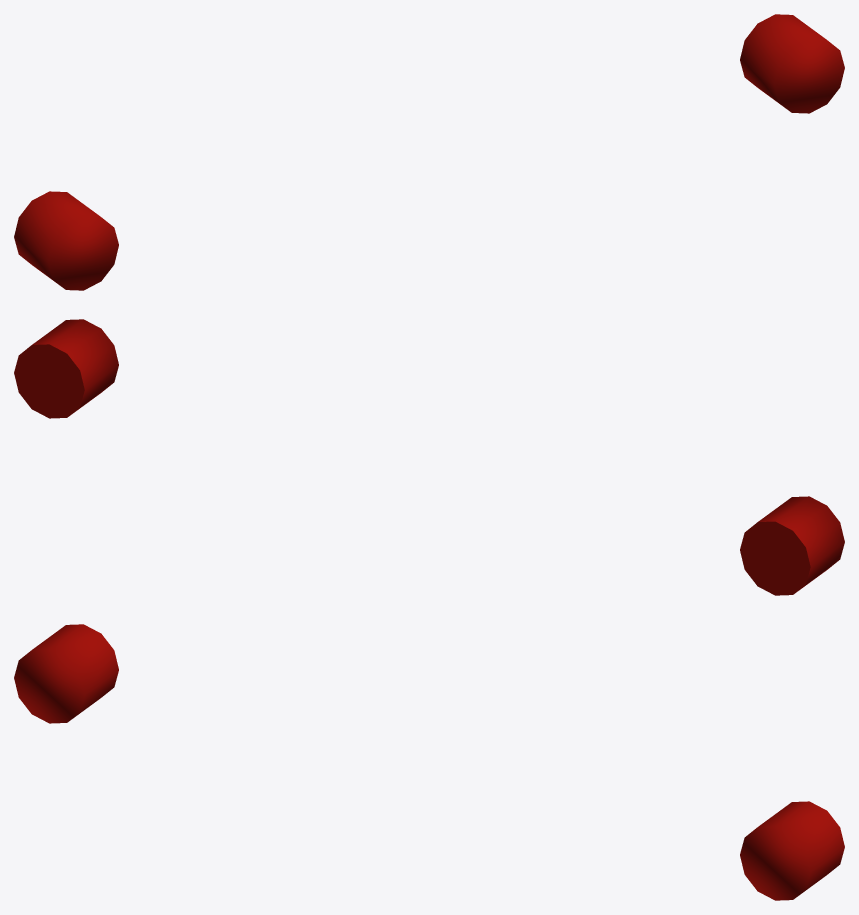
The model's file is 172_Lamp.fbx.
3 renders of one model, top to bottom at view 1: azimuth 30°, elevation 25°; view 2: azimuth 150°, elevation 25°; view 3: azimuth 330°, elevation 25°, orthographic.
Visible parts, largest first — view 1: LOW_VOLTAGE, LOW_VACUUM; view 2: LOW_VOLTAGE, LOW_VACUUM; view 3: LOW_VOLTAGE, LOW_VACUUM.
Part boxes in pixels (<box>): LOW_VOLTAGE: <box>740,14,844,113</box>; LOW_VACUUM: <box>14,191,118,290</box>; LOW_VOLTAGE: <box>14,319,118,418</box>; LOW_VACUUM: <box>740,496,844,595</box>; LOW_VOLTAGE: <box>740,801,844,900</box>; LOW_VACUUM: <box>14,624,118,723</box>.
Size of the model in its own units: 0.0877 by 0.0078 by 0.00654.
